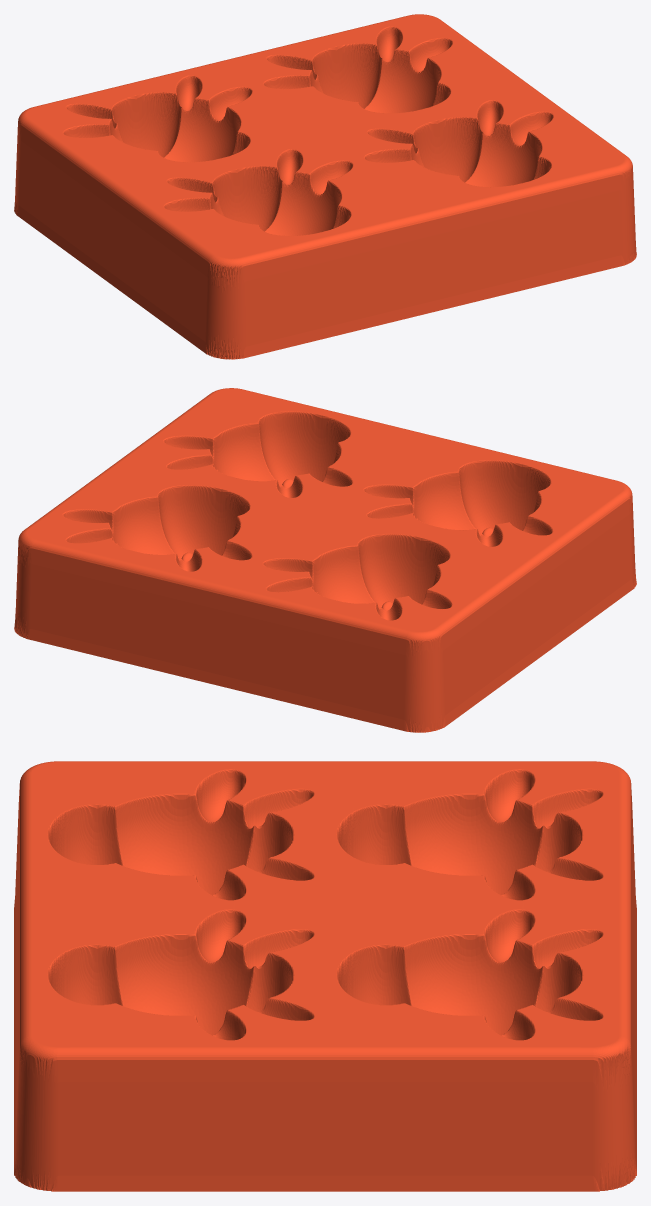
File: mold.glb
3 renders of one model, top to bottom at view 1: azimuth 30°, elevation 25°; view 2: azimuth 150°, elevation 25°; view 3: azimuth 270°, elevation 25°, orthographic. The views are drawn at different scales.
Visible parts, largest first — view 1: geometry_0; view 2: geometry_0; view 3: geometry_0.
Boxes of the visible parts, x1=… form: geometry_0: x1=14, y1=14, x2=636, y2=359; geometry_0: x1=14, y1=388, x2=636, y2=732; geometry_0: x1=14, y1=761, x2=636, y2=1191.
Size of the model in its own units: 0.1452 by 0.031 by 0.1276.
